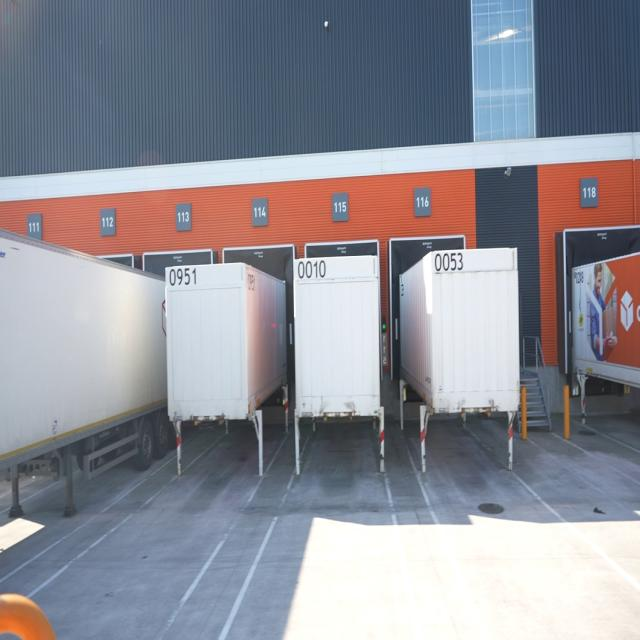Code: (432, 249, 464, 276), (167, 265, 201, 289), (296, 256, 328, 280)
